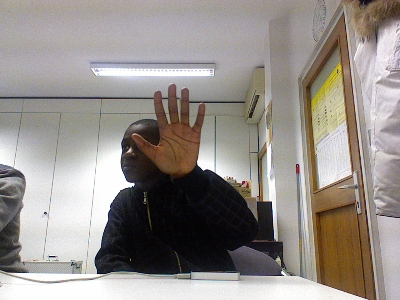布: (130, 81, 205, 177)
